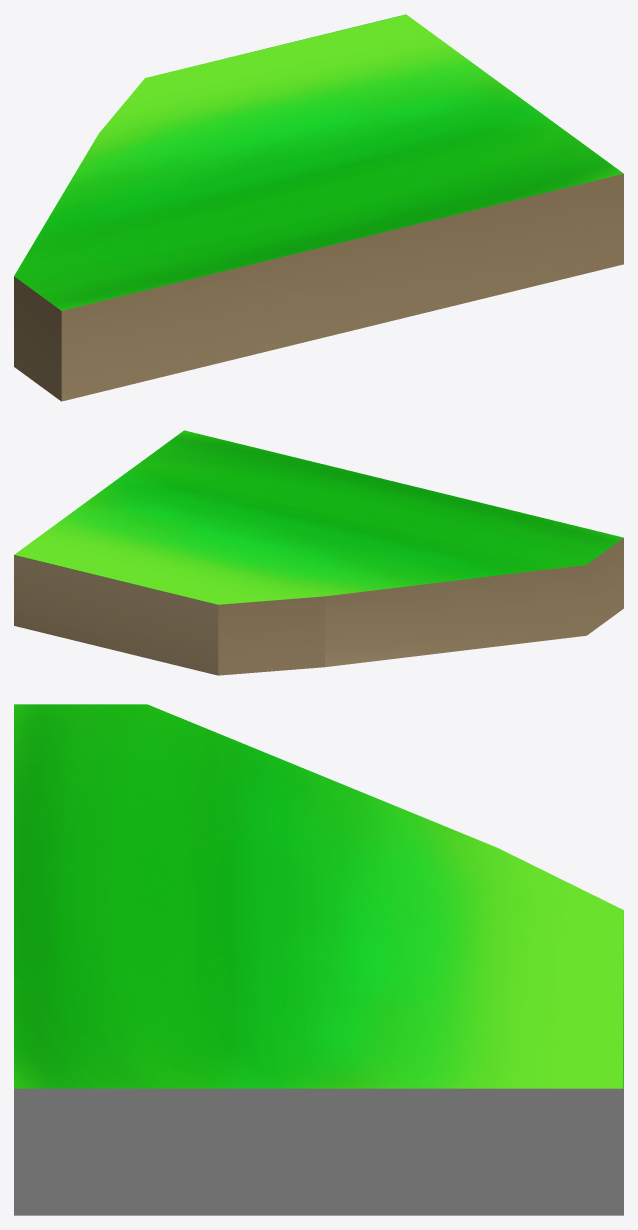
Rendered from S2_gruond_side.fbx.
3 renders of one model, top to bottom at view 1: azimuth 30°, elevation 25°; view 2: azimuth 150°, elevation 25°; view 3: azimuth 270°, elevation 25°, orthographic. The views are drawn at different scales.
Parts seen in each view (by area): view 1: stage2_3_baseleft; view 2: stage2_3_baseleft; view 3: stage2_3_baseleft.
Boxes of the visible parts, x1,y1,x2,y2 form: stage2_3_baseleft: (14, 14, 623, 401); stage2_3_baseleft: (14, 430, 623, 675); stage2_3_baseleft: (14, 704, 623, 1215).
Bounding box in the file's own units: 13.67 × 2.11 × 9.17.
3 materials, 2 textured.
